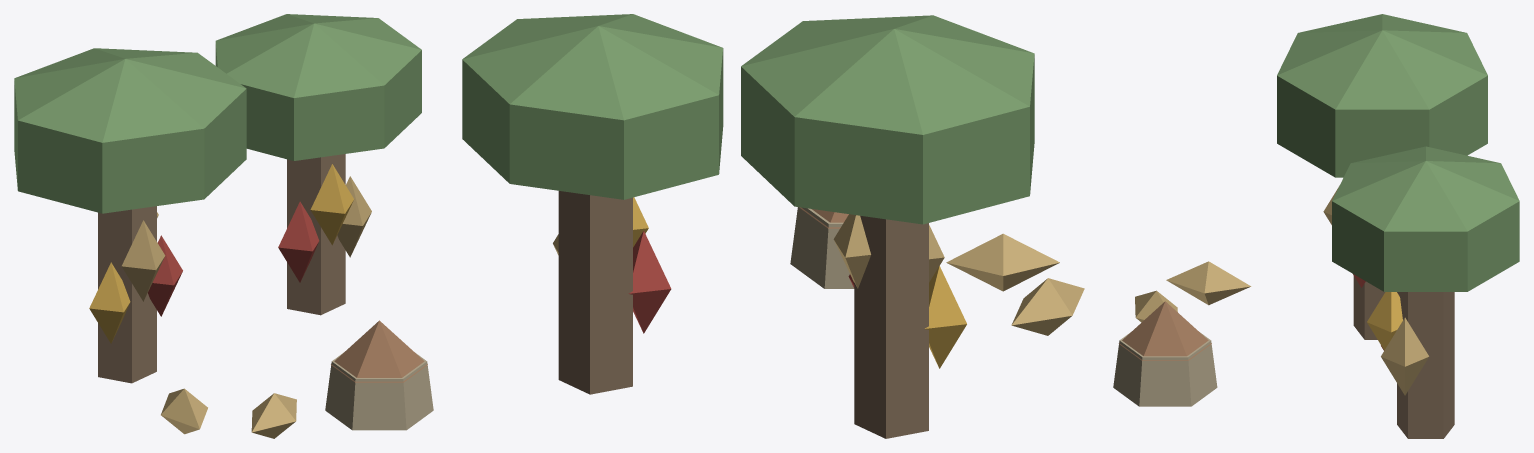
File: cocoa.glb
3 views of the same model, side by side, from view 1: azimuth 30°, elevation 25°; view 2: azimuth 150°, elevation 25°; view 3: azimuth 270°, elevation 25° (orthographic). The views are drawn at different scales.
Parts seen in each view (by area): view 1: LOD0; view 2: LOD0; view 3: LOD0.
Boxes of the visible parts, left/top/right/bottom form: LOD0: left=14, top=14, right=433, bottom=438; LOD0: left=462, top=14, right=1084, bottom=438; LOD0: left=1113, top=14, right=1519, bottom=438.
Size of what is drawn, in the model's own units: 0.6204 by 0.456 by 0.5617.
